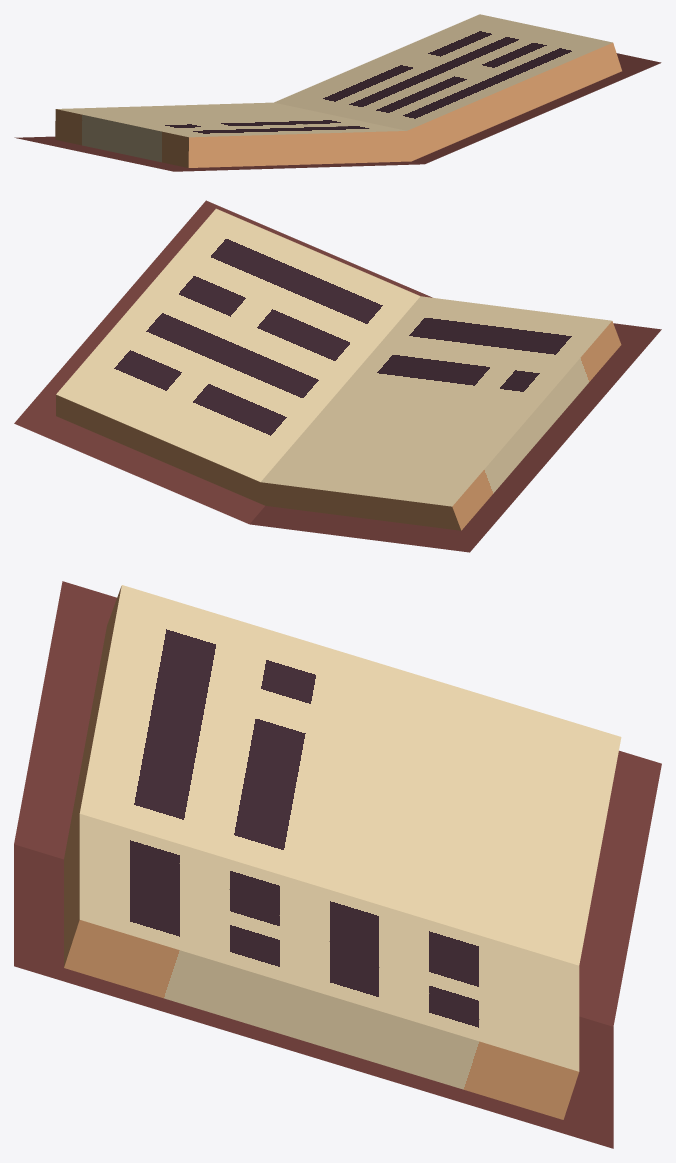
Rendered from BookOfKnoledge.gltf.
3 renders of one model, top to bottom at view 1: azimuth 30°, elevation 25°; view 2: azimuth 150°, elevation 25°; view 3: azimuth 270°, elevation 25°, orthographic. The views are drawn at different scales.
Visible parts, largest first — view 1: mesh; view 2: mesh; view 3: mesh.
Part boxes in pixels (x1,y1,x2,y2): mesh: (14, 14, 661, 171); mesh: (14, 200, 661, 552); mesh: (14, 581, 661, 1148).
Size of the model in its own units: 1.15 by 0.3491 by 0.7731.
Materials: 1 (1 with a texture image).
